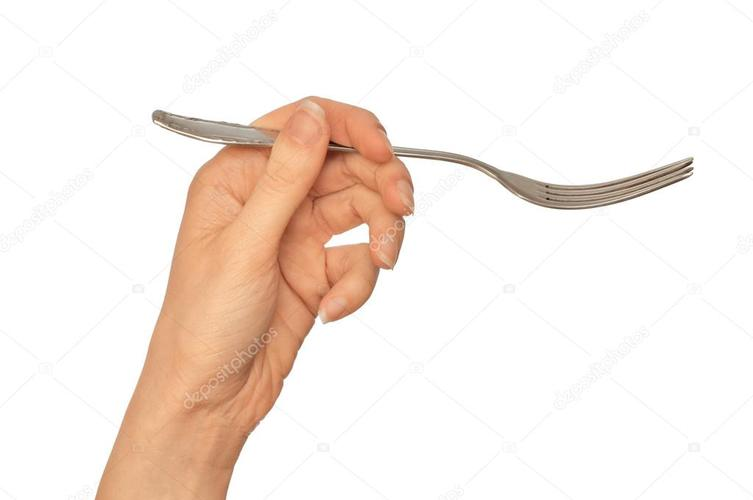no-phone: (130, 85, 491, 430)
